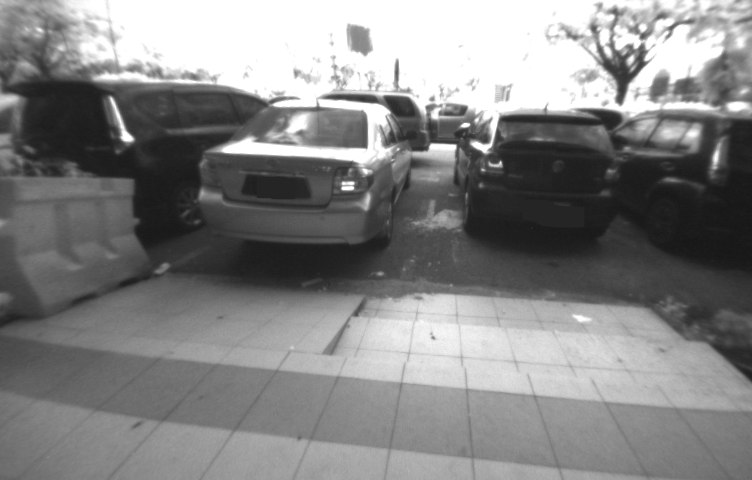down_steps: (340, 286, 737, 392)
mixed_gradient: (283, 278, 391, 390)
